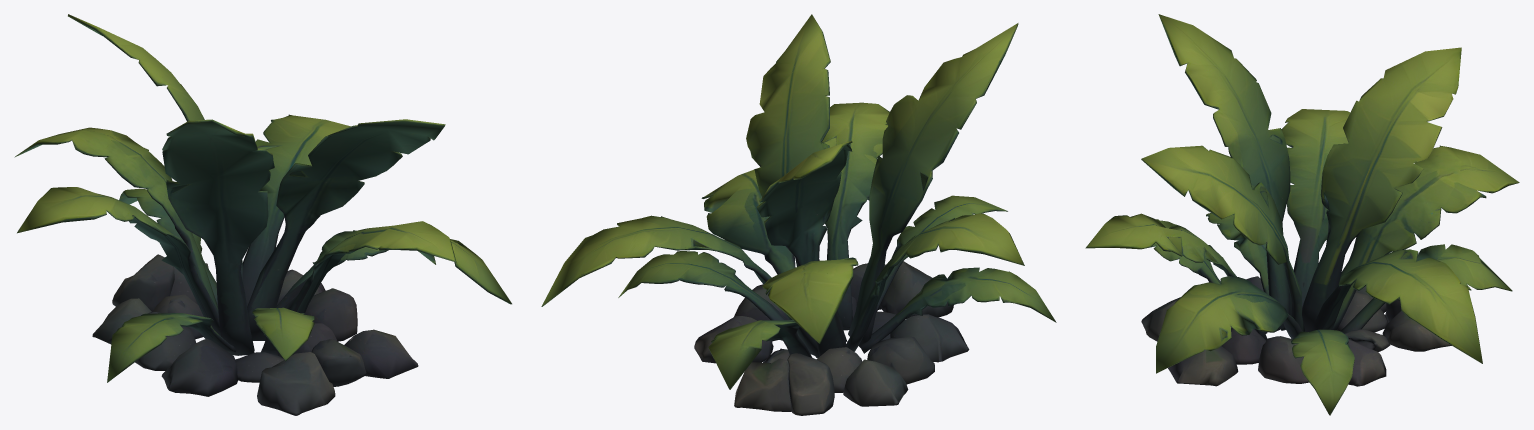
Rendered from SM_Vegetation_LowPolyPlant_01.fbx.
The picture shows the model from 3 angles, left to right: view 1: azimuth 30°, elevation 25°; view 2: azimuth 150°, elevation 25°; view 3: azimuth 270°, elevation 25°; orthographic projection. The views are drawn at different scales.
Parts seen in each view (by area): view 1: SM_Vegetation_LowPolyPlant_01; view 2: SM_Vegetation_LowPolyPlant_01; view 3: SM_Vegetation_LowPolyPlant_01.
Part boxes in pixels (x1=…): SM_Vegetation_LowPolyPlant_01: x1=14, y1=14, x2=511, y2=415; SM_Vegetation_LowPolyPlant_01: x1=541, y1=14, x2=1056, y2=415; SM_Vegetation_LowPolyPlant_01: x1=1085, y1=14, x2=1519, y2=415.
Bounding box in the file's own units: 0.998 × 0.7051 × 0.998.
Materials: 1 (1 with a texture image).
